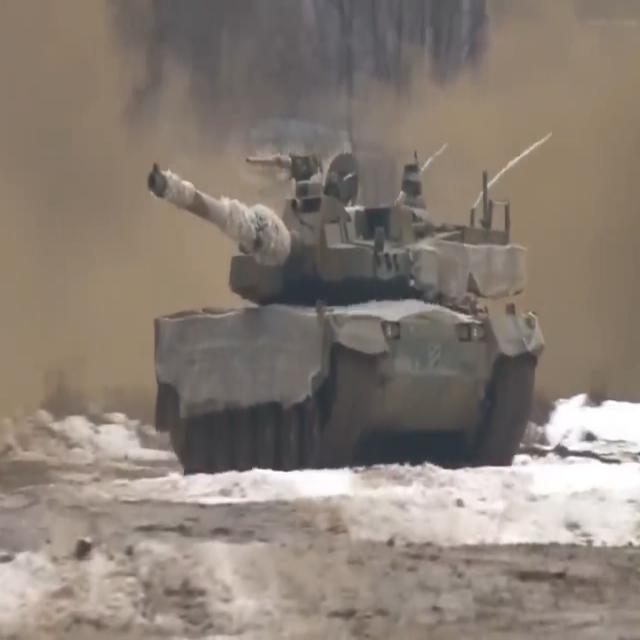korea tank: (147, 149, 552, 474)
